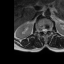CCS_normal: (44, 27, 45, 34)
LFS_stenosis: (48, 27, 49, 32)
LLS_normal: (45, 27, 47, 33)
RFS_stenosis: (40, 27, 42, 32)
RLS_normal: (42, 27, 44, 33)
